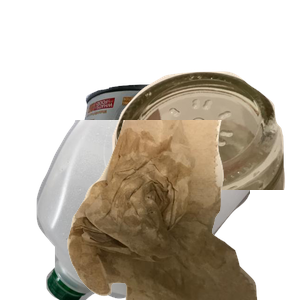glass: (89, 69, 300, 249)
metal: (60, 82, 300, 262)
plastic: (34, 120, 274, 300)
trash: (65, 120, 300, 300)
